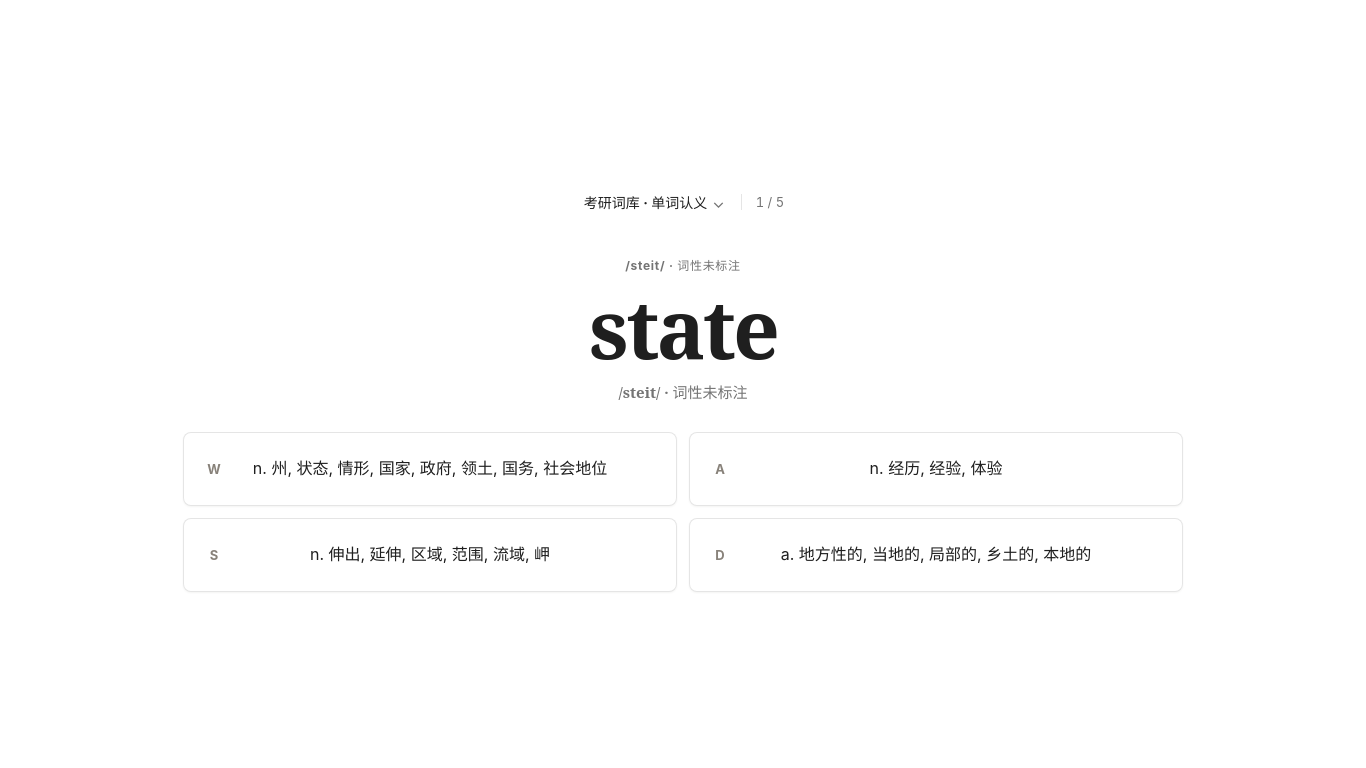
Test case: training flow › supplements a partial online vocabulary bank with local exam fallbacks
This screenshot has width=1366, height=768.
Click the button with aria-label "选择词库和类型".
click(654, 202)  # box [582, 182, 727, 222]
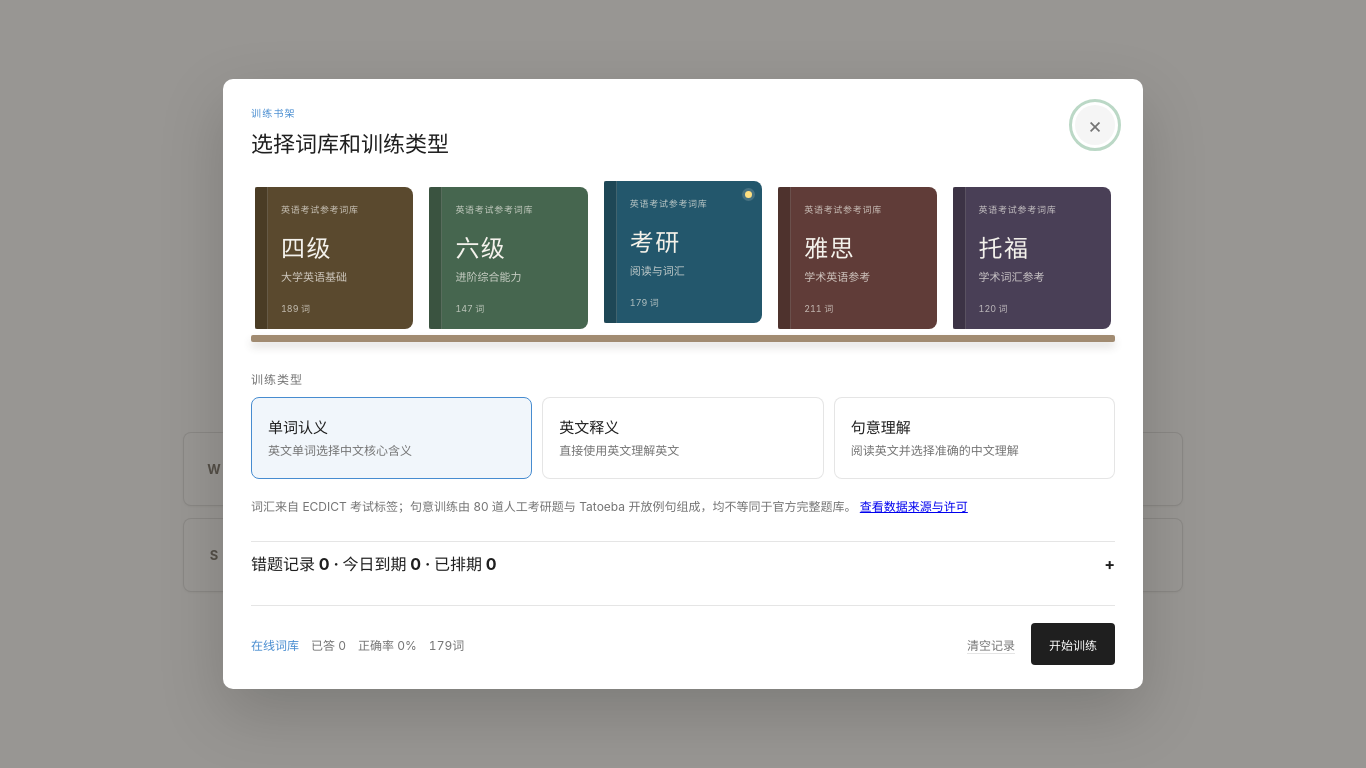
Expected: the radio button with aria-label "考研词库，" is shown, [604, 181, 762, 323]
